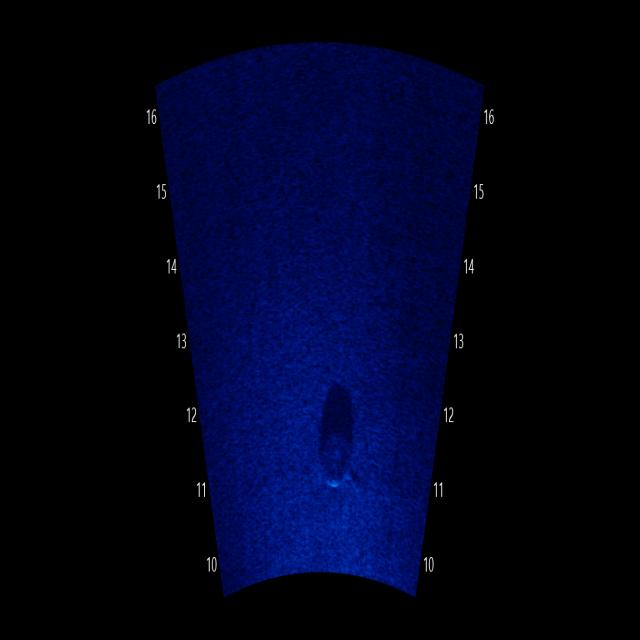circle: (316, 408, 361, 504)
